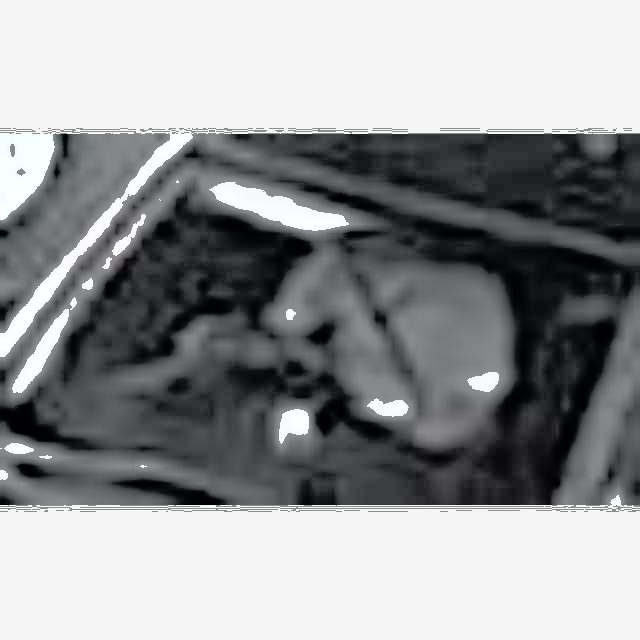pakai: (251, 229, 502, 437)
